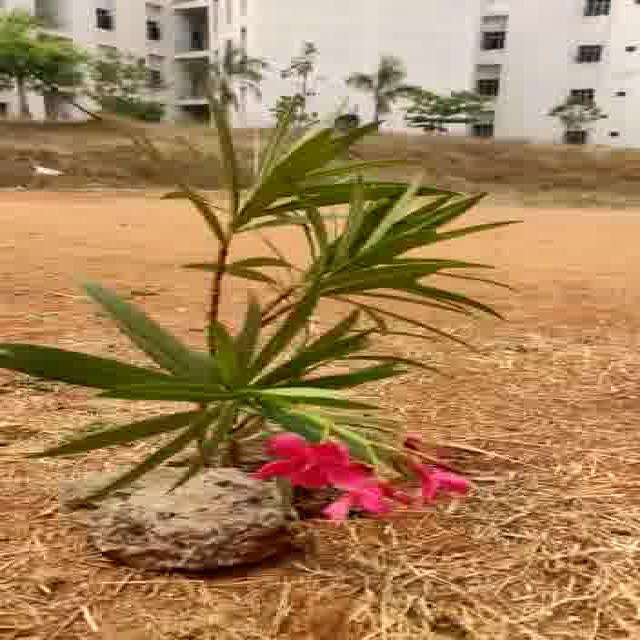OLEANDER: (0, 103, 510, 470)
